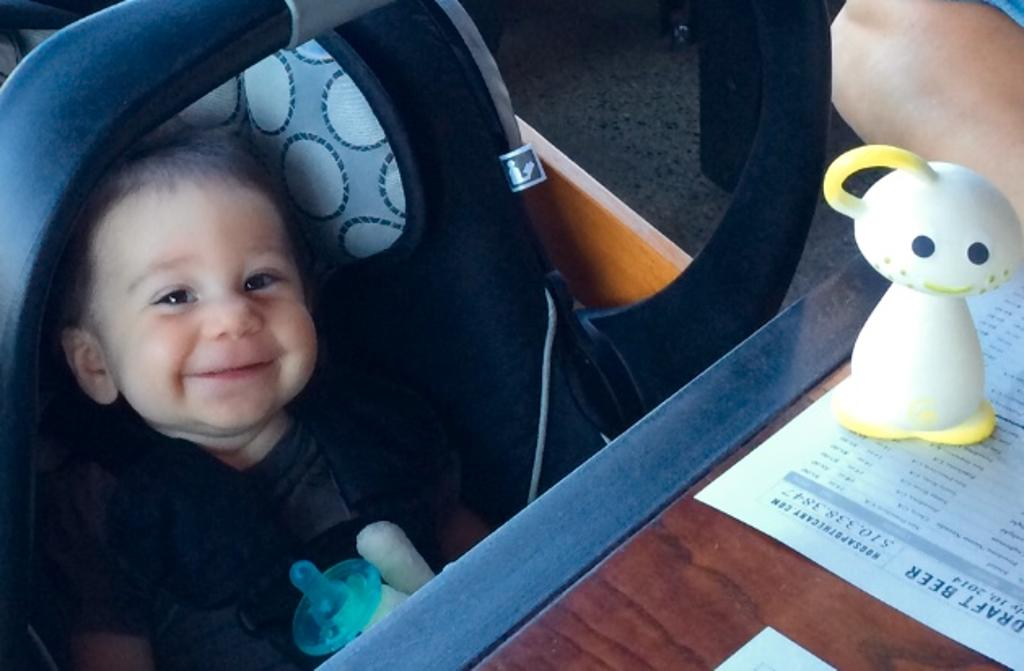face: (104, 174, 314, 424)
